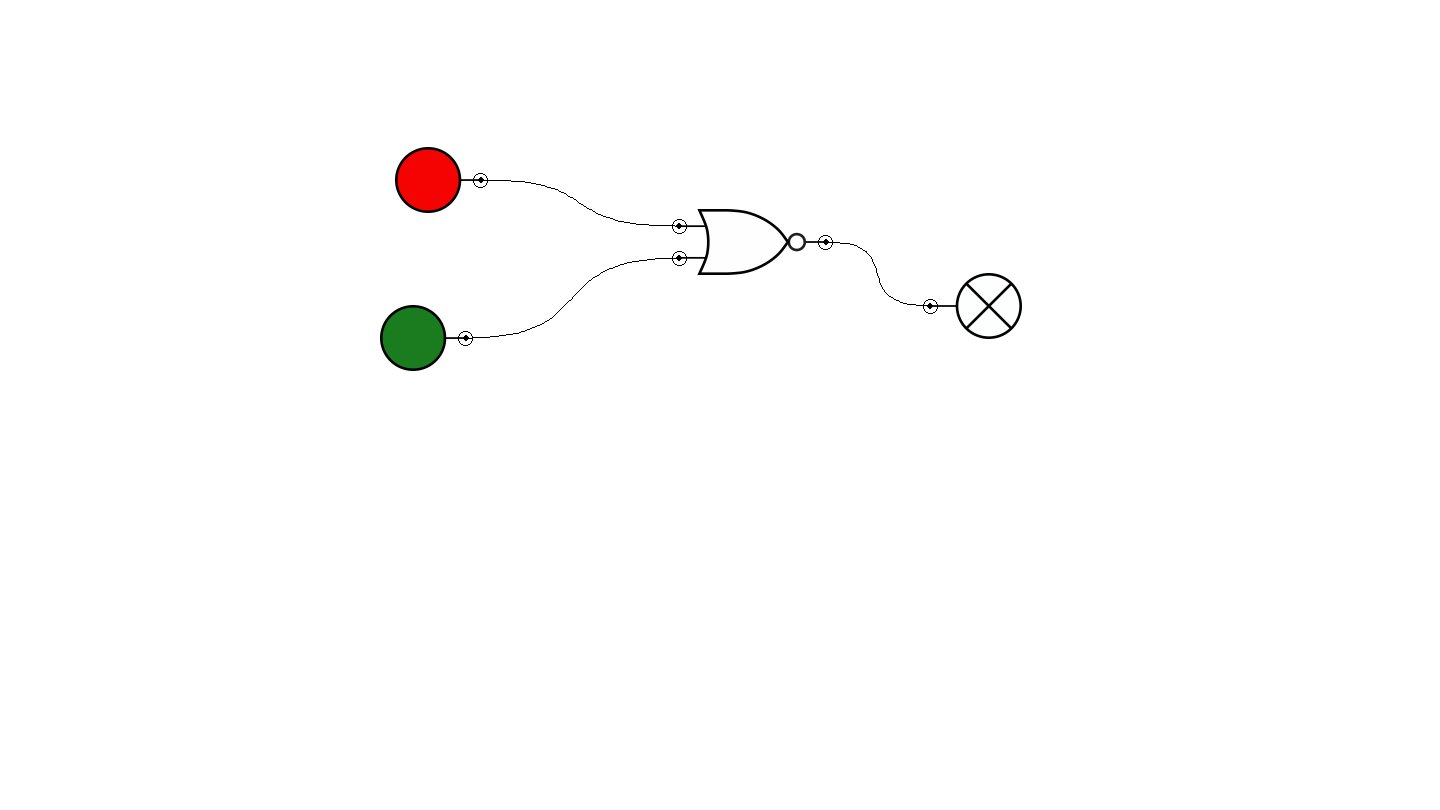bulb: (923, 273, 1022, 339)
nor: (672, 209, 833, 275)
switch_False: (395, 147, 488, 213)
switch_True: (380, 305, 473, 371)
